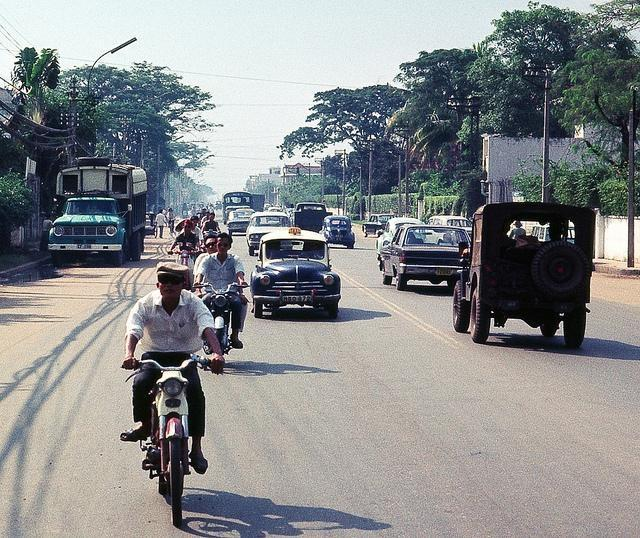bus: (222, 191, 254, 225)
car: (249, 228, 341, 322), (377, 223, 472, 293), (244, 211, 296, 256), (374, 217, 426, 249), (319, 215, 358, 250), (426, 215, 474, 236), (363, 213, 396, 238), (226, 211, 252, 235), (268, 207, 282, 212)
motorcycle: (137, 357, 210, 529), (192, 282, 248, 353), (169, 251, 199, 266)
truck: (448, 202, 588, 355), (48, 162, 148, 268), (292, 202, 334, 234)
